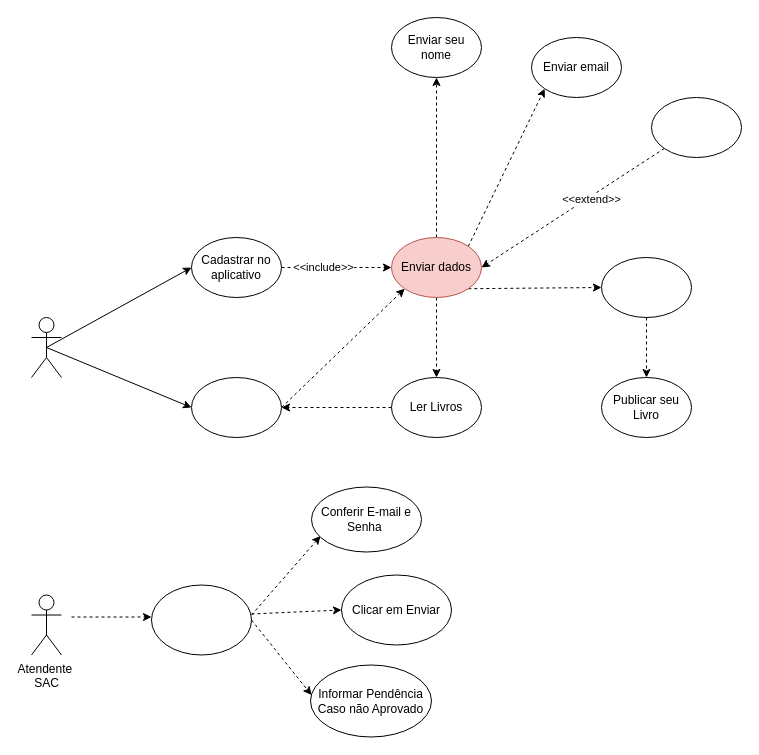
This 759x755 diagram has some shape labels left out. Here are the shapes that lost their labels. From the top down, the centre of each, then its label:
At (x=696, y=127): "Enviar foto de perfil".
At (x=646, y=287): "Escrever seu próprio livro".
At (x=46, y=347): "usuario".
At (x=236, y=407): "Fazer Login".
At (x=201, y=619): "Aprovar Cadastro".
